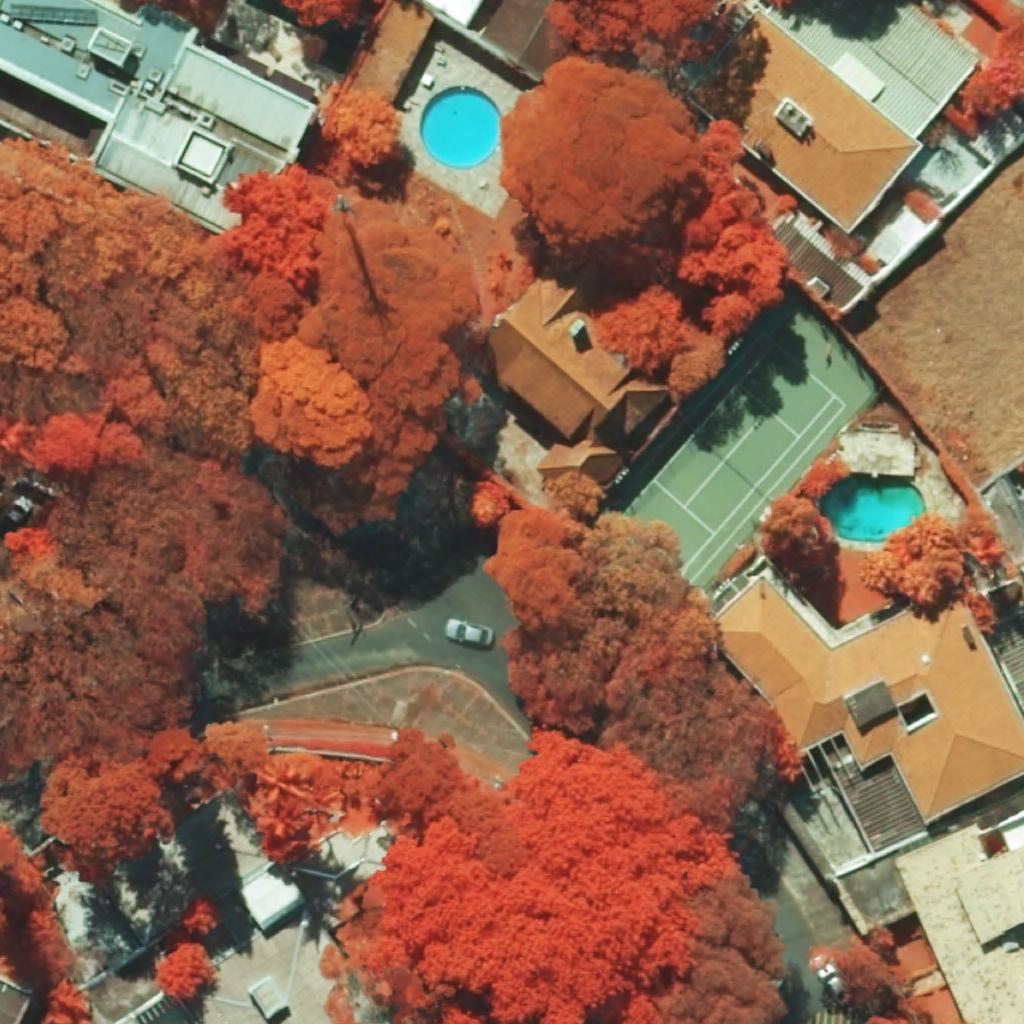pool: (820, 474, 927, 542), (420, 85, 502, 169)
